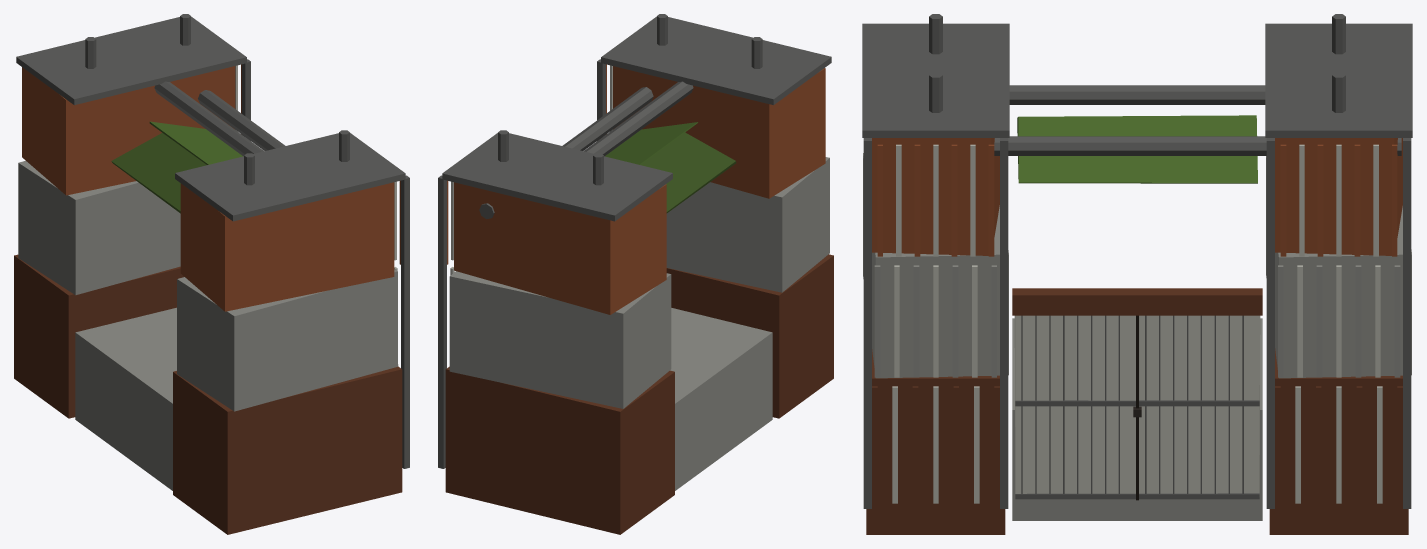
File: fort_cistern_gate.glb
3 views of the same model, side by side, from view 1: azimuth 30°, elevation 25°; view 2: azimuth 150°, elevation 25°; view 3: azimuth 270°, elevation 25° (orthographic). The views are drawn at different scales.
Parts seen in each view (by area): view 1: fort_cistern_gate; view 2: fort_cistern_gate; view 3: fort_cistern_gate.
Part boxes in pixels (bbox=[...]): fort_cistern_gate: bbox=[14, 14, 409, 534]; fort_cistern_gate: bbox=[438, 14, 833, 534]; fort_cistern_gate: bbox=[862, 14, 1412, 534].
Size of the model in its own units: 9.55 by 17.5 by 19.8.
